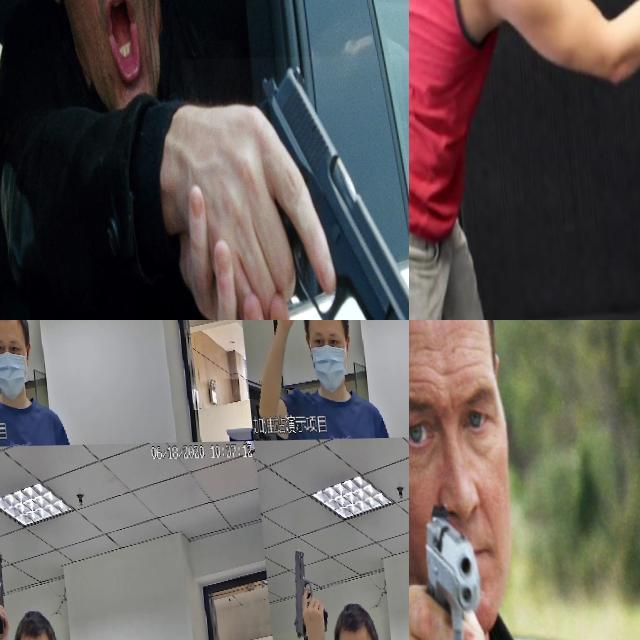gun-knife-thesis - v11 Yolov5 augmented: (174, 57, 409, 320), (409, 509, 485, 640), (277, 546, 320, 640), (260, 320, 301, 360), (0, 556, 19, 638), (0, 320, 16, 363)
